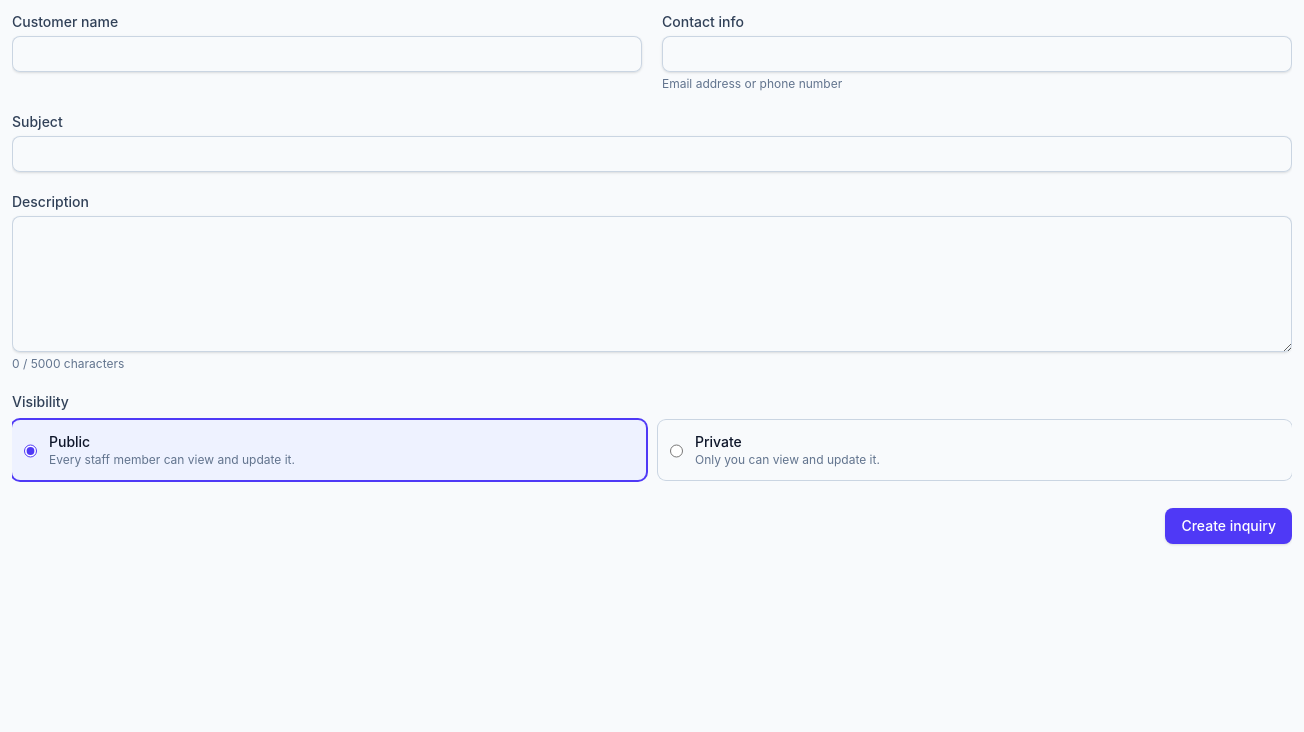
InquiryForm (create inquiry) — Situation 1: invalid customer input › rejects contact info that is neither an email nor a phone number
Type "  John Silva  " into the field labelled "Customer name". click: (327, 54)
box: [12,36,642,72]
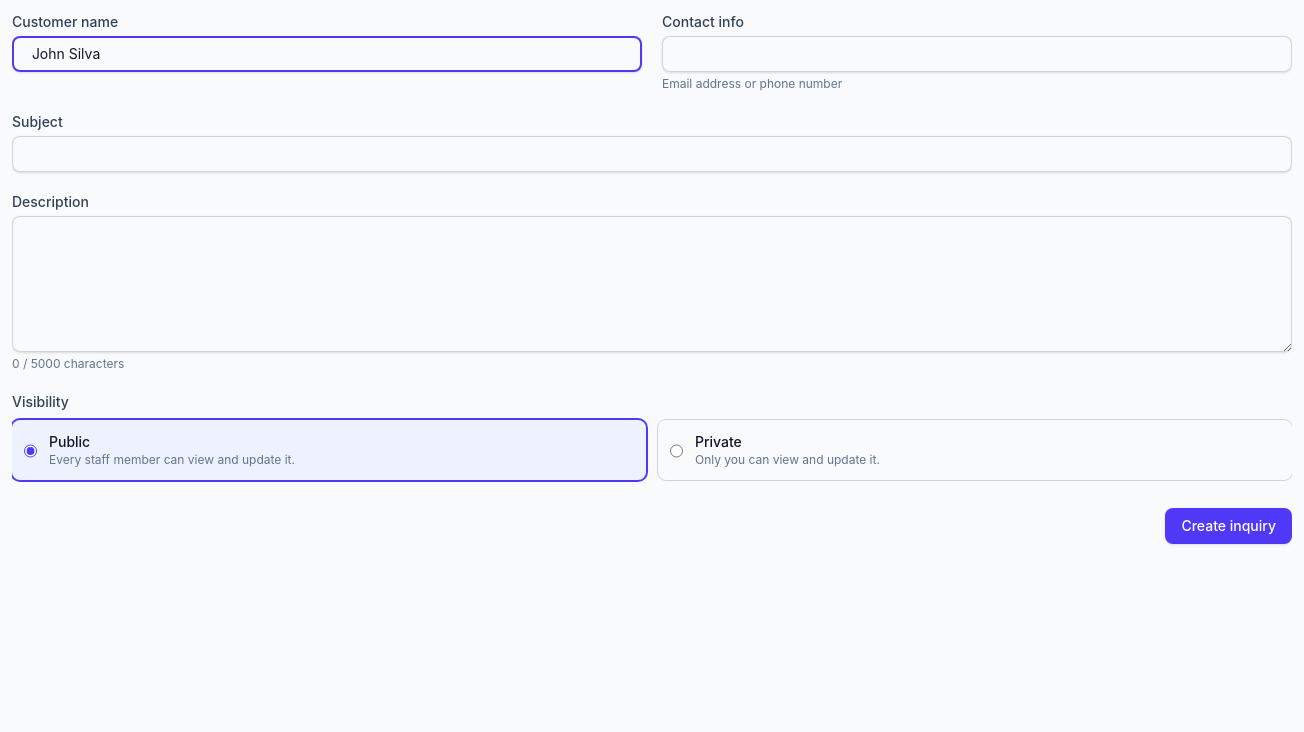
Type "077 123 4567" into the field labelled "Contact info". click: (977, 54)
box: [662,36,1292,72]
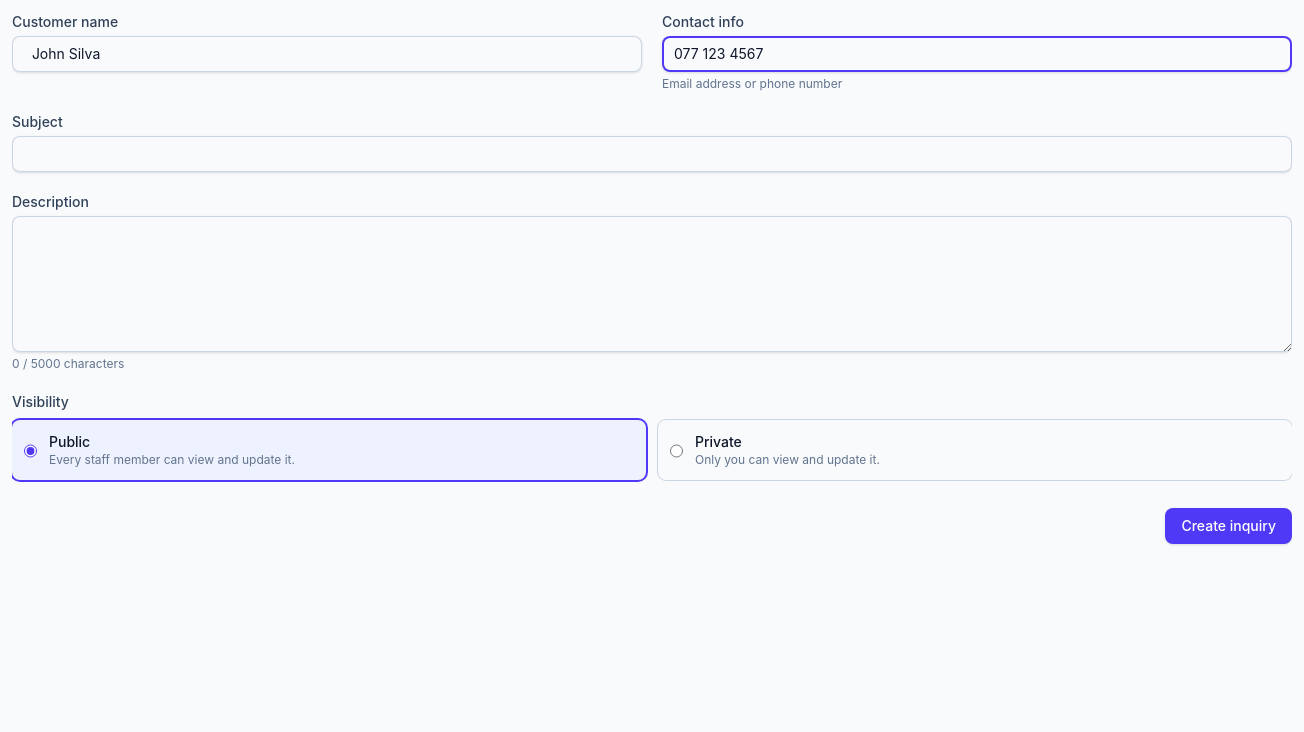
Type "Service inquiry" into the field labelled "Subject". click: (652, 154)
box: [12,136,1292,172]
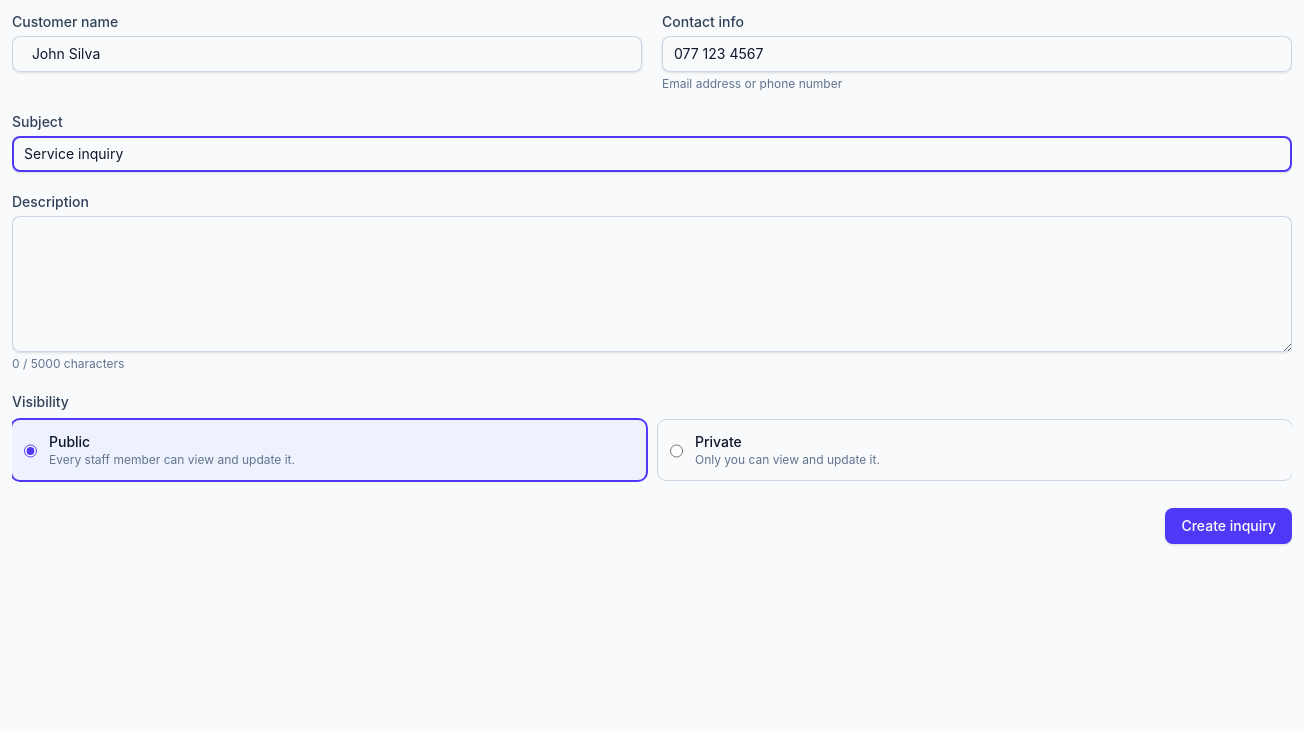
Type "Customer wants information about the service." into the text box labelled "Description". click: (652, 284)
box: [12,216,1292,352]
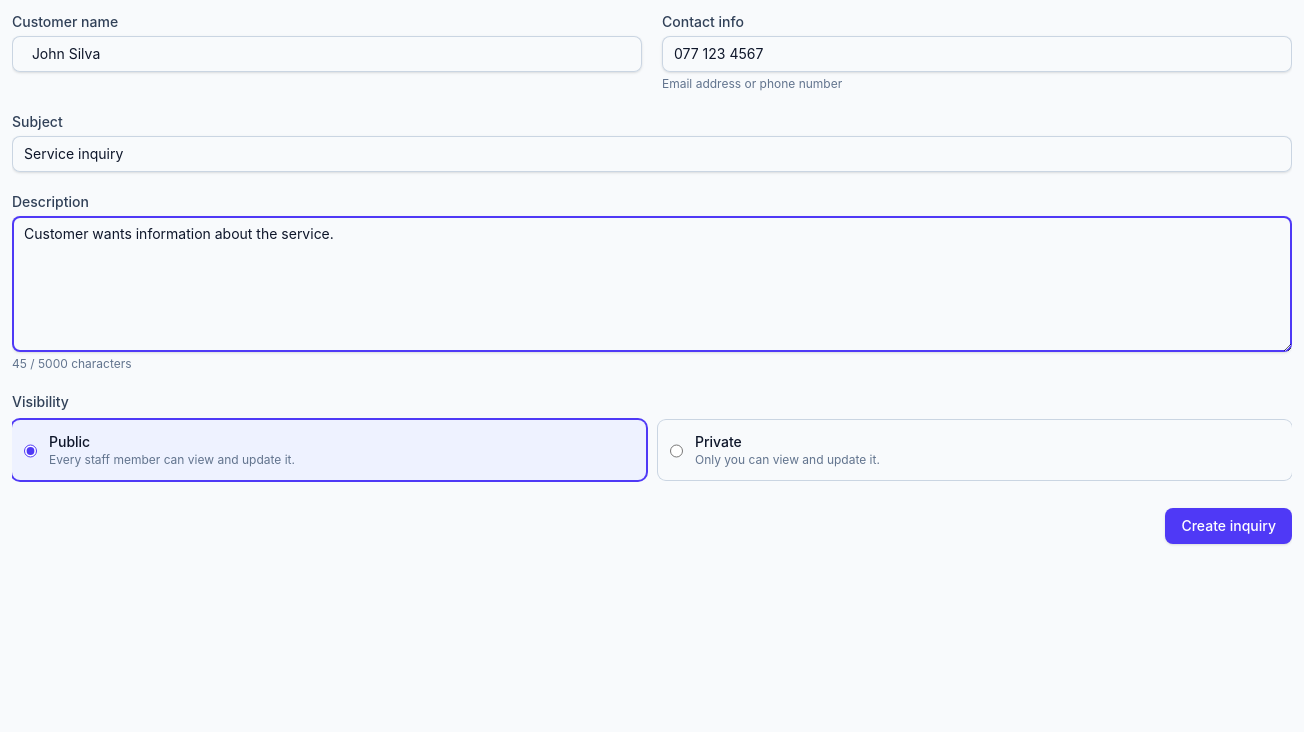
Replace the text in the field labelled "Contact info" with "call me maybe". click: (977, 54)
box: [662,36,1292,72]
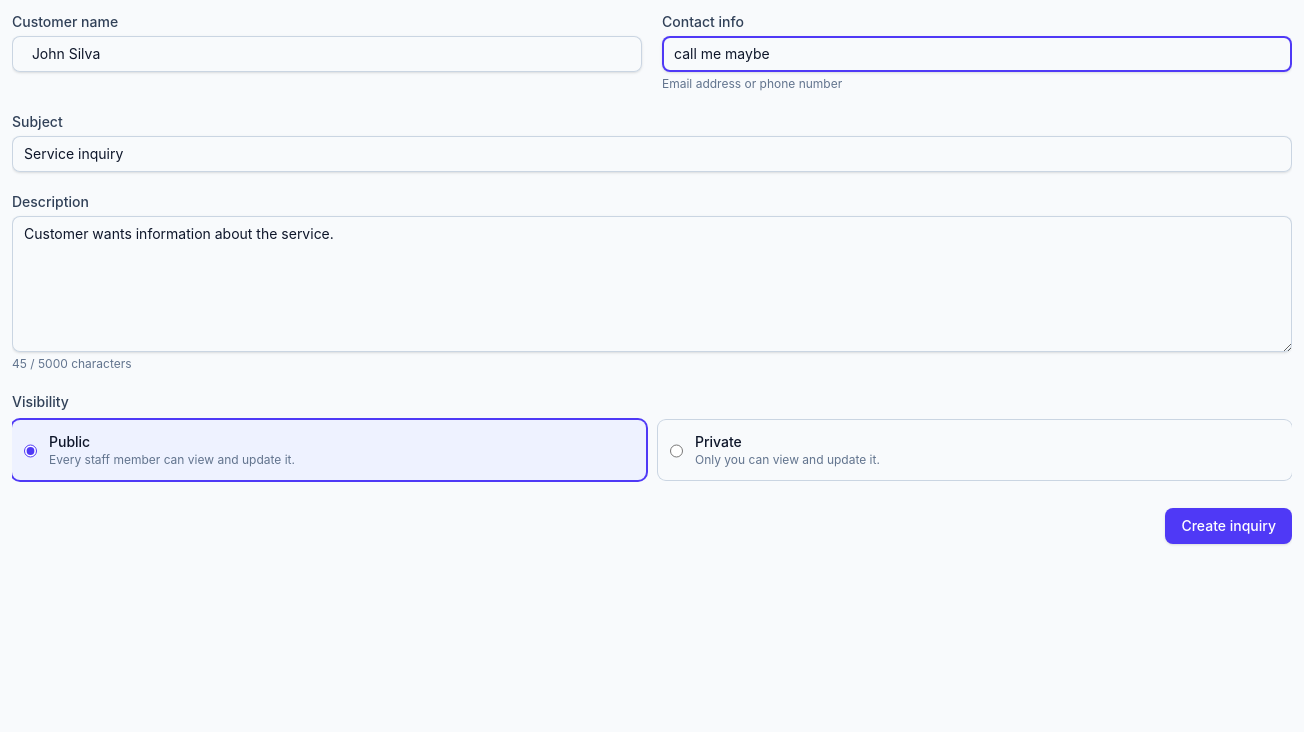
Click the button "Create inquiry". click: (1229, 526)
box: [1165,508,1292,544]
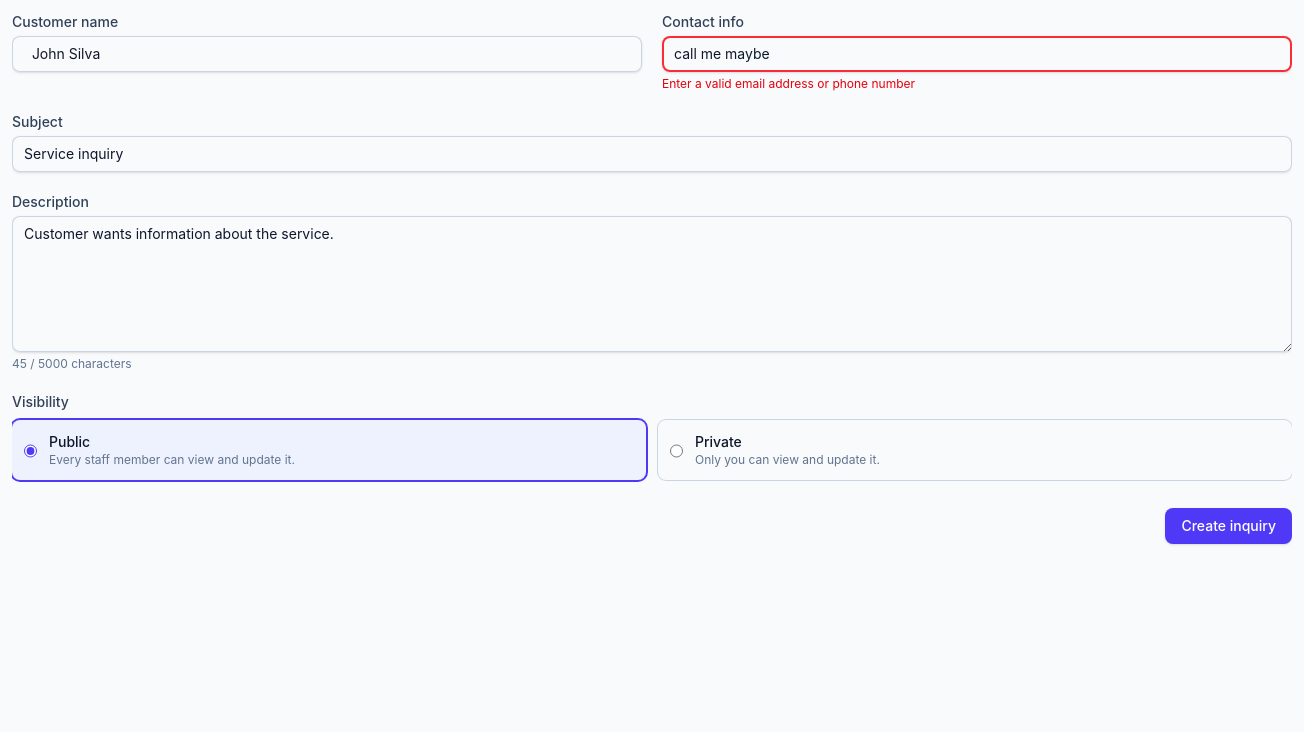
Now the text "Enter a valid email address or phone number" is shown, box [662,76,915,91]
